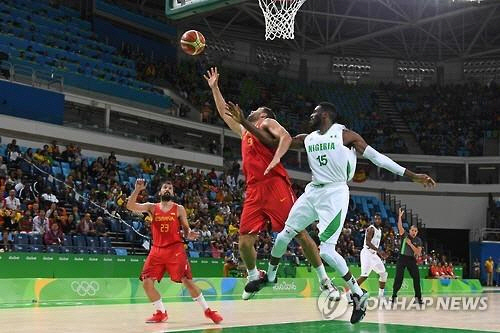ball: (176, 26, 208, 59)
rebound: (173, 26, 306, 296)
stand: (113, 168, 232, 333)
